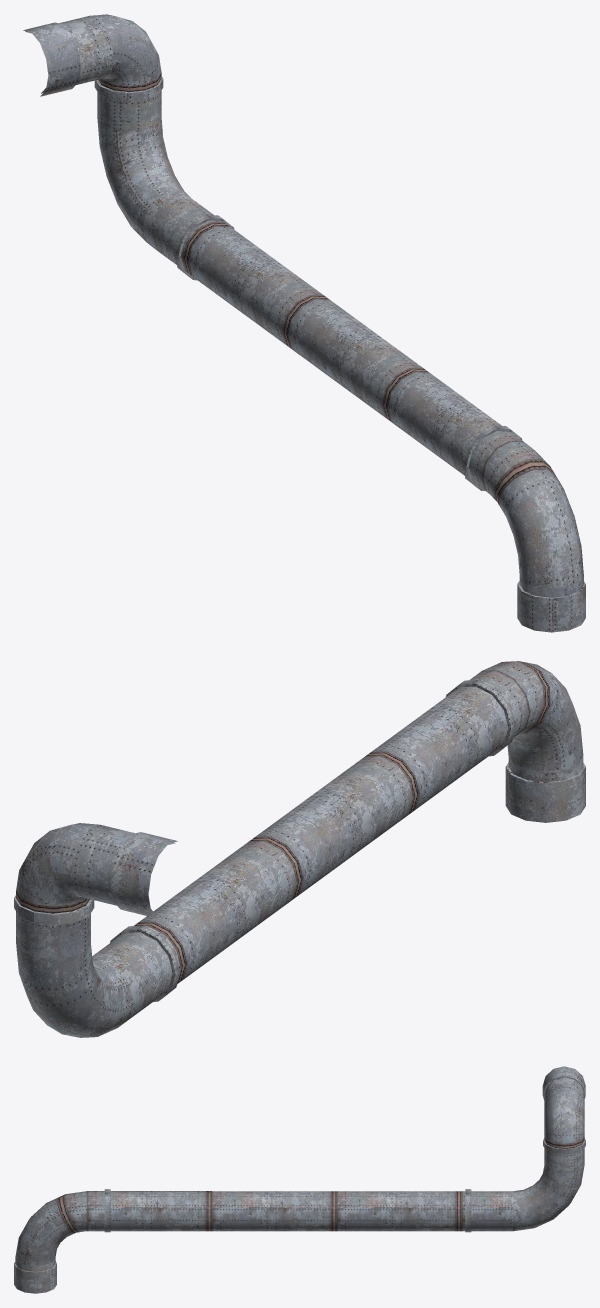
Rendered from pipecluster16d_002a.glb.
3 renders of one model, top to bottom at view 1: azimuth 30°, elevation 25°; view 2: azimuth 150°, elevation 25°; view 3: azimuth 270°, elevation 25°, orthographic. The views are drawn at different scales.
Parts seen in each view (by area): view 1: 0_pipeset_metal02; view 2: 0_pipeset_metal02; view 3: 0_pipeset_metal02.
Boxes of the visible parts, <box> form: 0_pipeset_metal02: <box>23,14,585,632</box>; 0_pipeset_metal02: <box>14,661,585,1037</box>; 0_pipeset_metal02: <box>14,1066,585,1293</box>.
Size of the model in its own units: 0.9361 by 2.1 by 5.78.
1 material, 1 textured.
